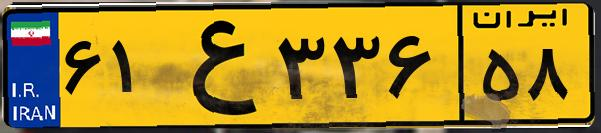1: (110, 28, 158, 98)
3: (270, 28, 330, 110), (330, 28, 385, 110)
5: (475, 38, 525, 113)
6: (385, 28, 445, 110), (57, 26, 110, 100)
8: (525, 38, 570, 115)
ع: (158, 12, 270, 120)
